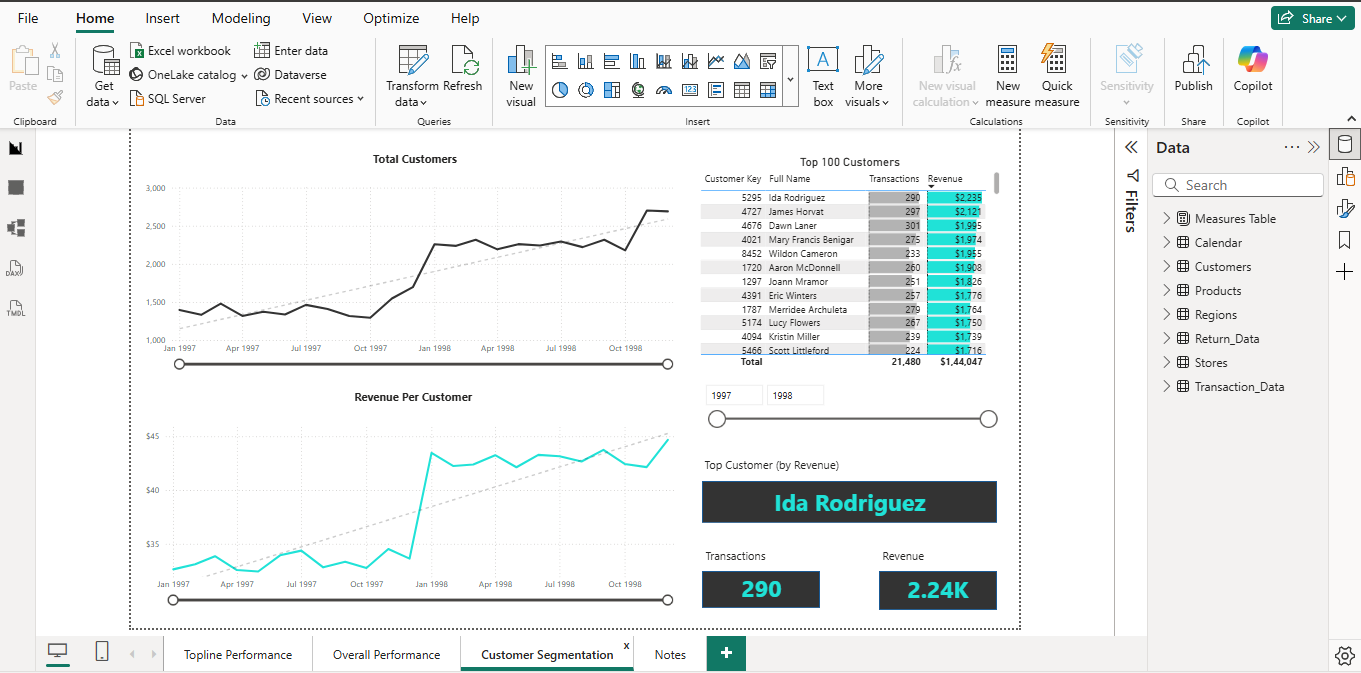

The dashboard page shown, as its layout file describes it:
{"tool":"powerbi","page":{"name":"Customer Segmentation","canvas":[1280,720],"ordinal":2},"visuals":[{"type":"lineChart","fields":{"Category":["Calendar.Date Hierarchy.Start of Year","Calendar.Date Hierarchy.Start of Month","Calendar.Date Hierarchy.Start of Week","Calendar.Date Hierarchy.date"],"Y":["Measures Table.Total Customers"]},"box":[15.8,72,786.2,279.4],"z":0},{"type":"shape","box":[822.5,507.6,424.8,60.5],"z":0,"group":"g1"},{"type":"tableEx","title":"Top 100 Customers","fields":{"Values":["Customers.customer_id","Customers.full_name","Measures Table.Total Transactions","Measures Table.Total Revenue"]},"box":[815,38.9,440.6,312.5],"z":1000},{"type":"card","fields":{"Values":["Measures Table.Full Name (Customer)"]},"box":[823.8,511.9,423.4,56.2],"z":1000,"group":"g1"},{"type":"lineChart","fields":{"Category":["Calendar.Date Hierarchy.Start of Year","Calendar.Date Hierarchy.Start of Month","Calendar.Date Hierarchy.Start of Week","Calendar.Date Hierarchy.date"],"Y":["Measures Table.Average Revenue Per Customer"]},"box":[15.8,414.7,786.2,276.5],"z":2000},{"type":"textbox","box":[820.5,469.4,288,37.4],"z":2000,"group":"g1"},{"type":"textbox","box":[316.8,371.5,208.8,43.2],"z":3000},{"type":"textbox","box":[316.8,28.8,184.3,43.2],"z":4000},{"type":"slicer","fields":{"Values":["Calendar.Year"]},"box":[815,360,440.6,86.4],"z":5000},{"type":"shape","box":[822.2,637.9,169.9,53.3],"z":6000},{"type":"card","fields":{"Values":["Measures Table.Total Transactions (Customer)"]},"box":[823.7,635,168.5,56.2],"z":7000,"group":"g2"},{"type":"shape","box":[1077.1,637.9,169.9,56.2],"z":7000},{"type":"card","fields":{"Values":["Measures Table.Total Revenue (Customer)"]},"box":[1077.1,635,169.9,59],"z":8000},{"type":"group","id":"g1","title":"Group 1","box":[820.5,469.4,426.8,98.7],"z":9000},{"type":"group","id":"g2","title":"Group 1","box":[823.7,635,168.5,56.2],"z":10000},{"type":"textbox","box":[822.2,600.5,105.1,37.4],"z":11000},{"type":"textbox","box":[1077.1,600.5,105.1,37.4],"z":12000}]}

Visuals, with their boxes on the page's 1280x720 design canvas (x1, y1, x2, y2). These are canvas units, not pixel positions in the 1361x673 screenshot, which may show the page scaled, cropped or inside an application window:
lineChart - Calendar.Date Hierarchy.Start of Year x Calendar.Date Hierarchy.Start of Month: 16:72:802:351
shape: 822:508:1247:568
"Top 100 Customers" tableEx: 815:39:1256:351
card - Measures Table.Full Name (Customer): 824:512:1247:568
lineChart - Calendar.Date Hierarchy.Start of Year x Calendar.Date Hierarchy.Start of Month: 16:415:802:691
textbox: 820:469:1108:507
textbox: 317:372:526:415
textbox: 317:29:501:72
slicer - Calendar.Year: 815:360:1256:446
shape: 822:638:992:691
card - Measures Table.Total Transactions (Customer): 824:635:992:691
shape: 1077:638:1247:694
card - Measures Table.Total Revenue (Customer): 1077:635:1247:694
"Group 1" group: 820:469:1247:568
"Group 1" group: 824:635:992:691
textbox: 822:600:927:638
textbox: 1077:600:1182:638
